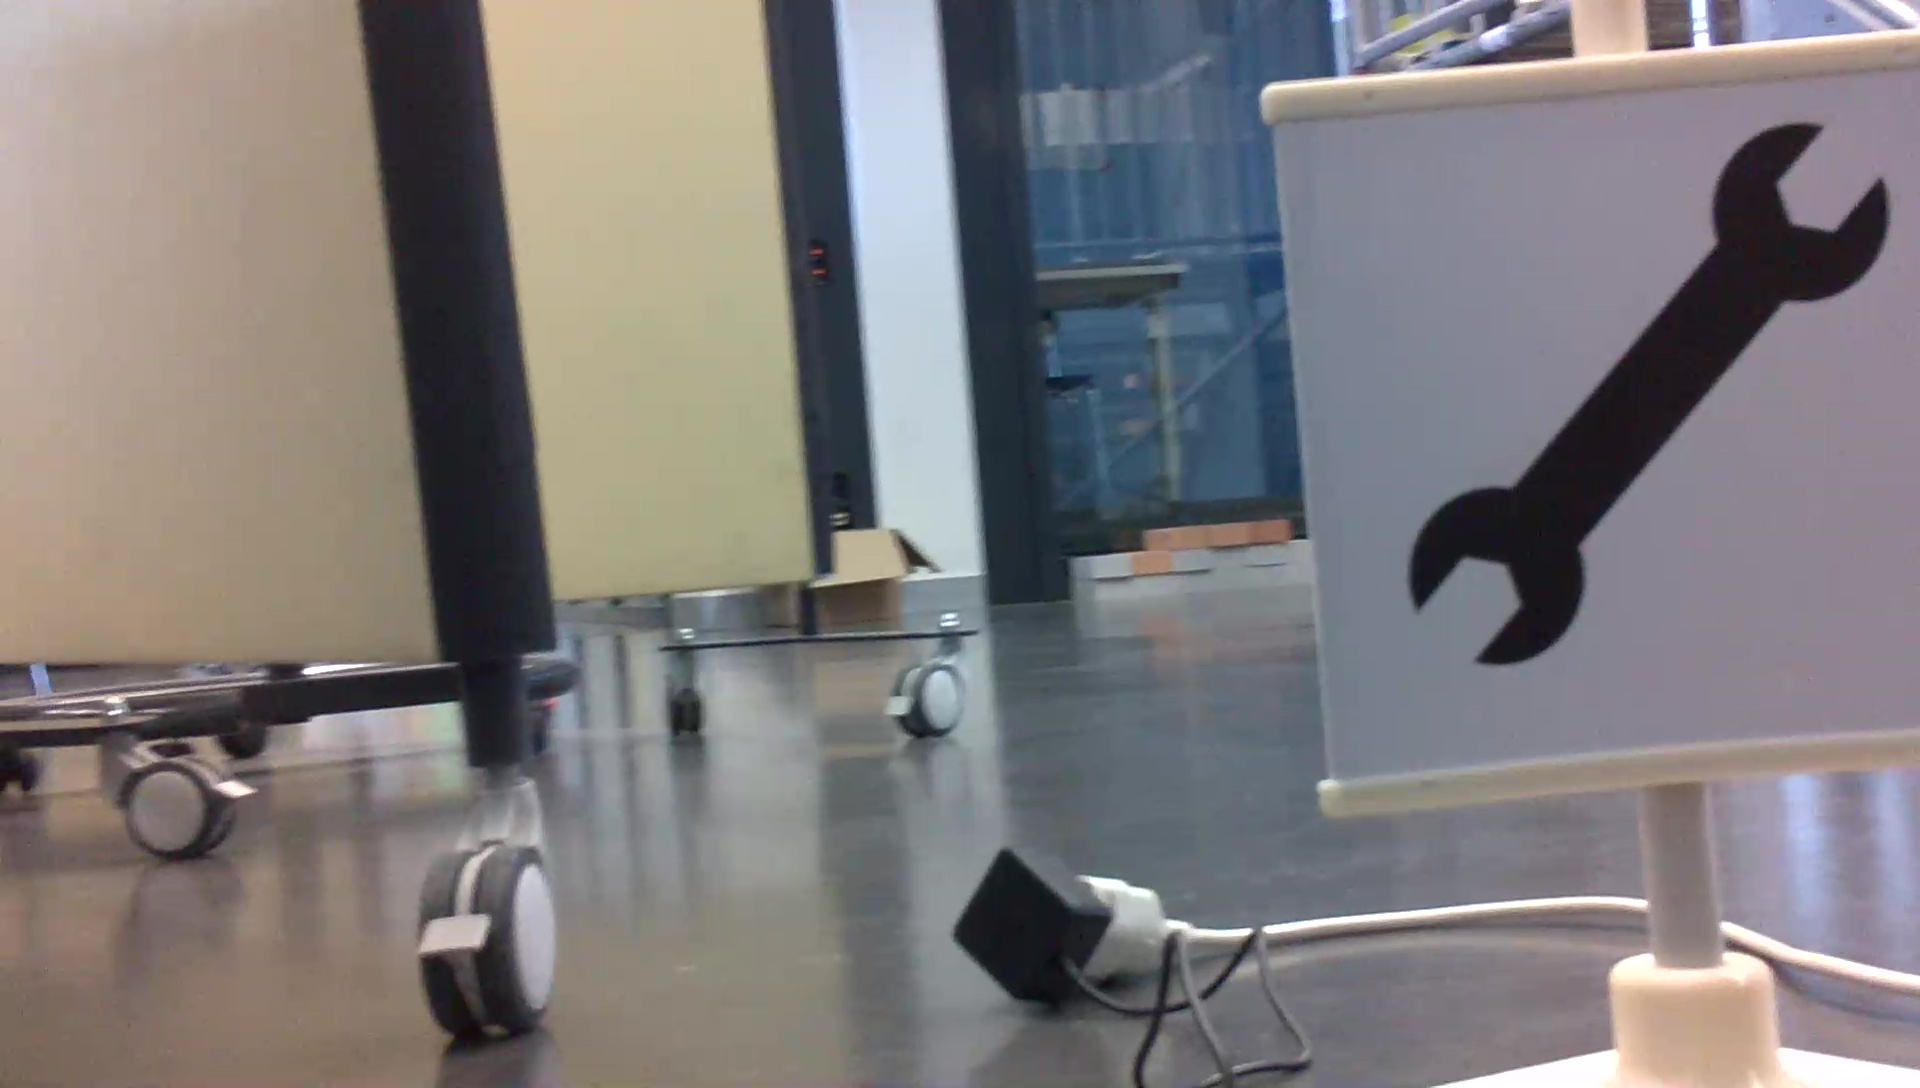wrench: (1393, 111, 1900, 680)
